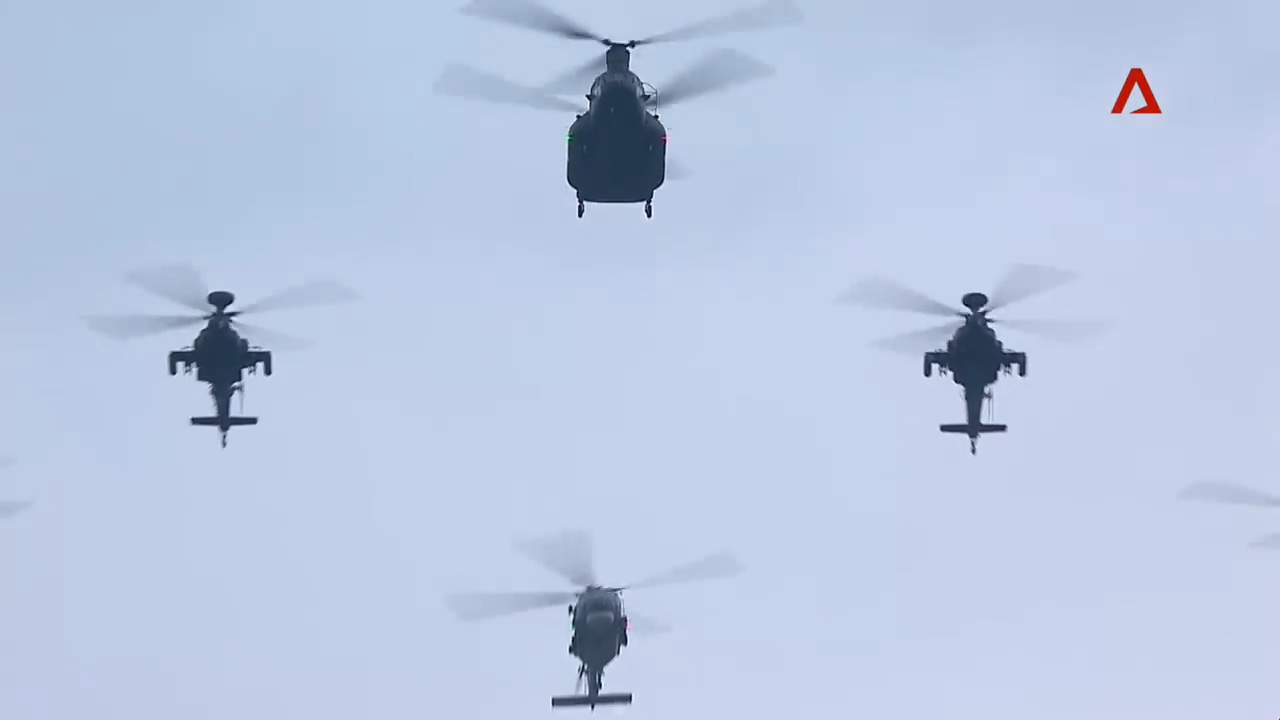ah64: (76, 255, 363, 451), (833, 259, 1112, 459)
chinook: (429, 1, 809, 224)
seahawk: (443, 527, 747, 714)
